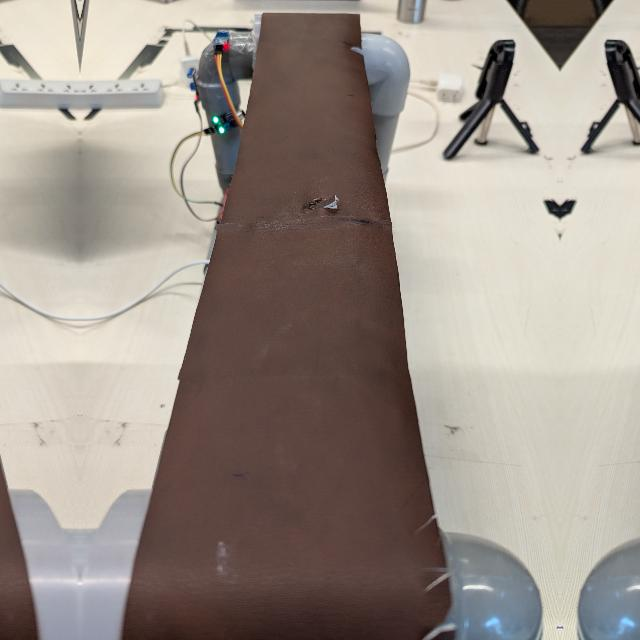belt_tear: (343, 38, 373, 67)
joint_damage: (289, 181, 369, 225)
